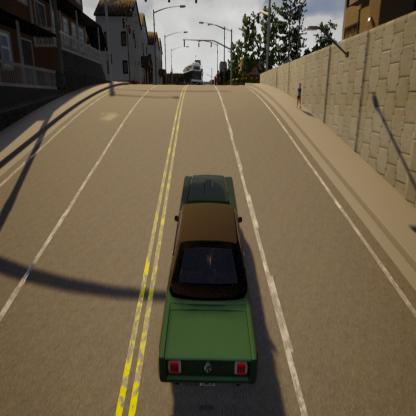Cars: (140, 165, 266, 402), (179, 62, 207, 87)
Pedestrian: (294, 80, 305, 113)
